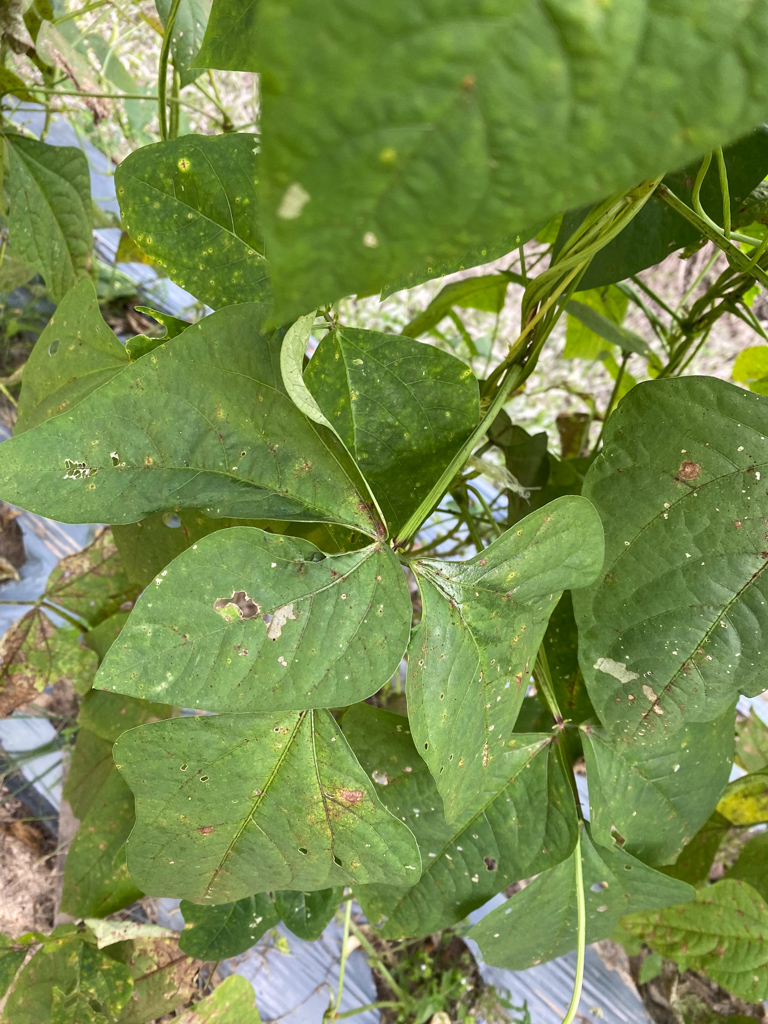Alternaria brassicicola: (155, 734, 369, 887), (120, 149, 268, 305), (315, 347, 476, 477), (426, 572, 527, 779), (371, 138, 407, 175)
